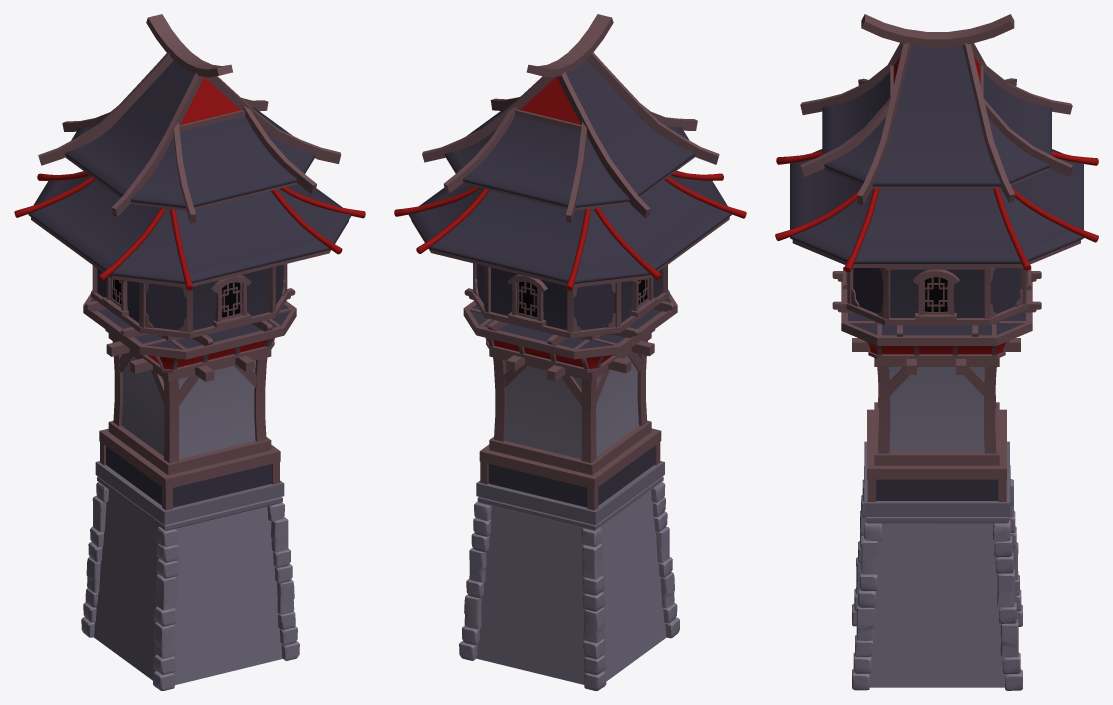
Rendered from tower_04.fbx.
3 renders of one model, left to right at view 1: azimuth 30°, elevation 25°; view 2: azimuth 150°, elevation 25°; view 3: azimuth 270°, elevation 25°, orthographic. The views are drawn at different scales.
Visible parts, largest first — view 1: tower_04; view 2: tower_04; view 3: tower_04.
Boxes of the visible parts, x1,y1,x2,y2 form: tower_04: [14, 14, 365, 690]; tower_04: [394, 14, 746, 690]; tower_04: [775, 14, 1098, 690].
Bounding box in the file's own units: 1358 × 2943 × 1355.
